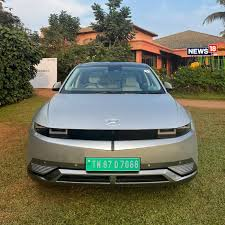Honda Ioniq: (25, 57, 202, 199)
